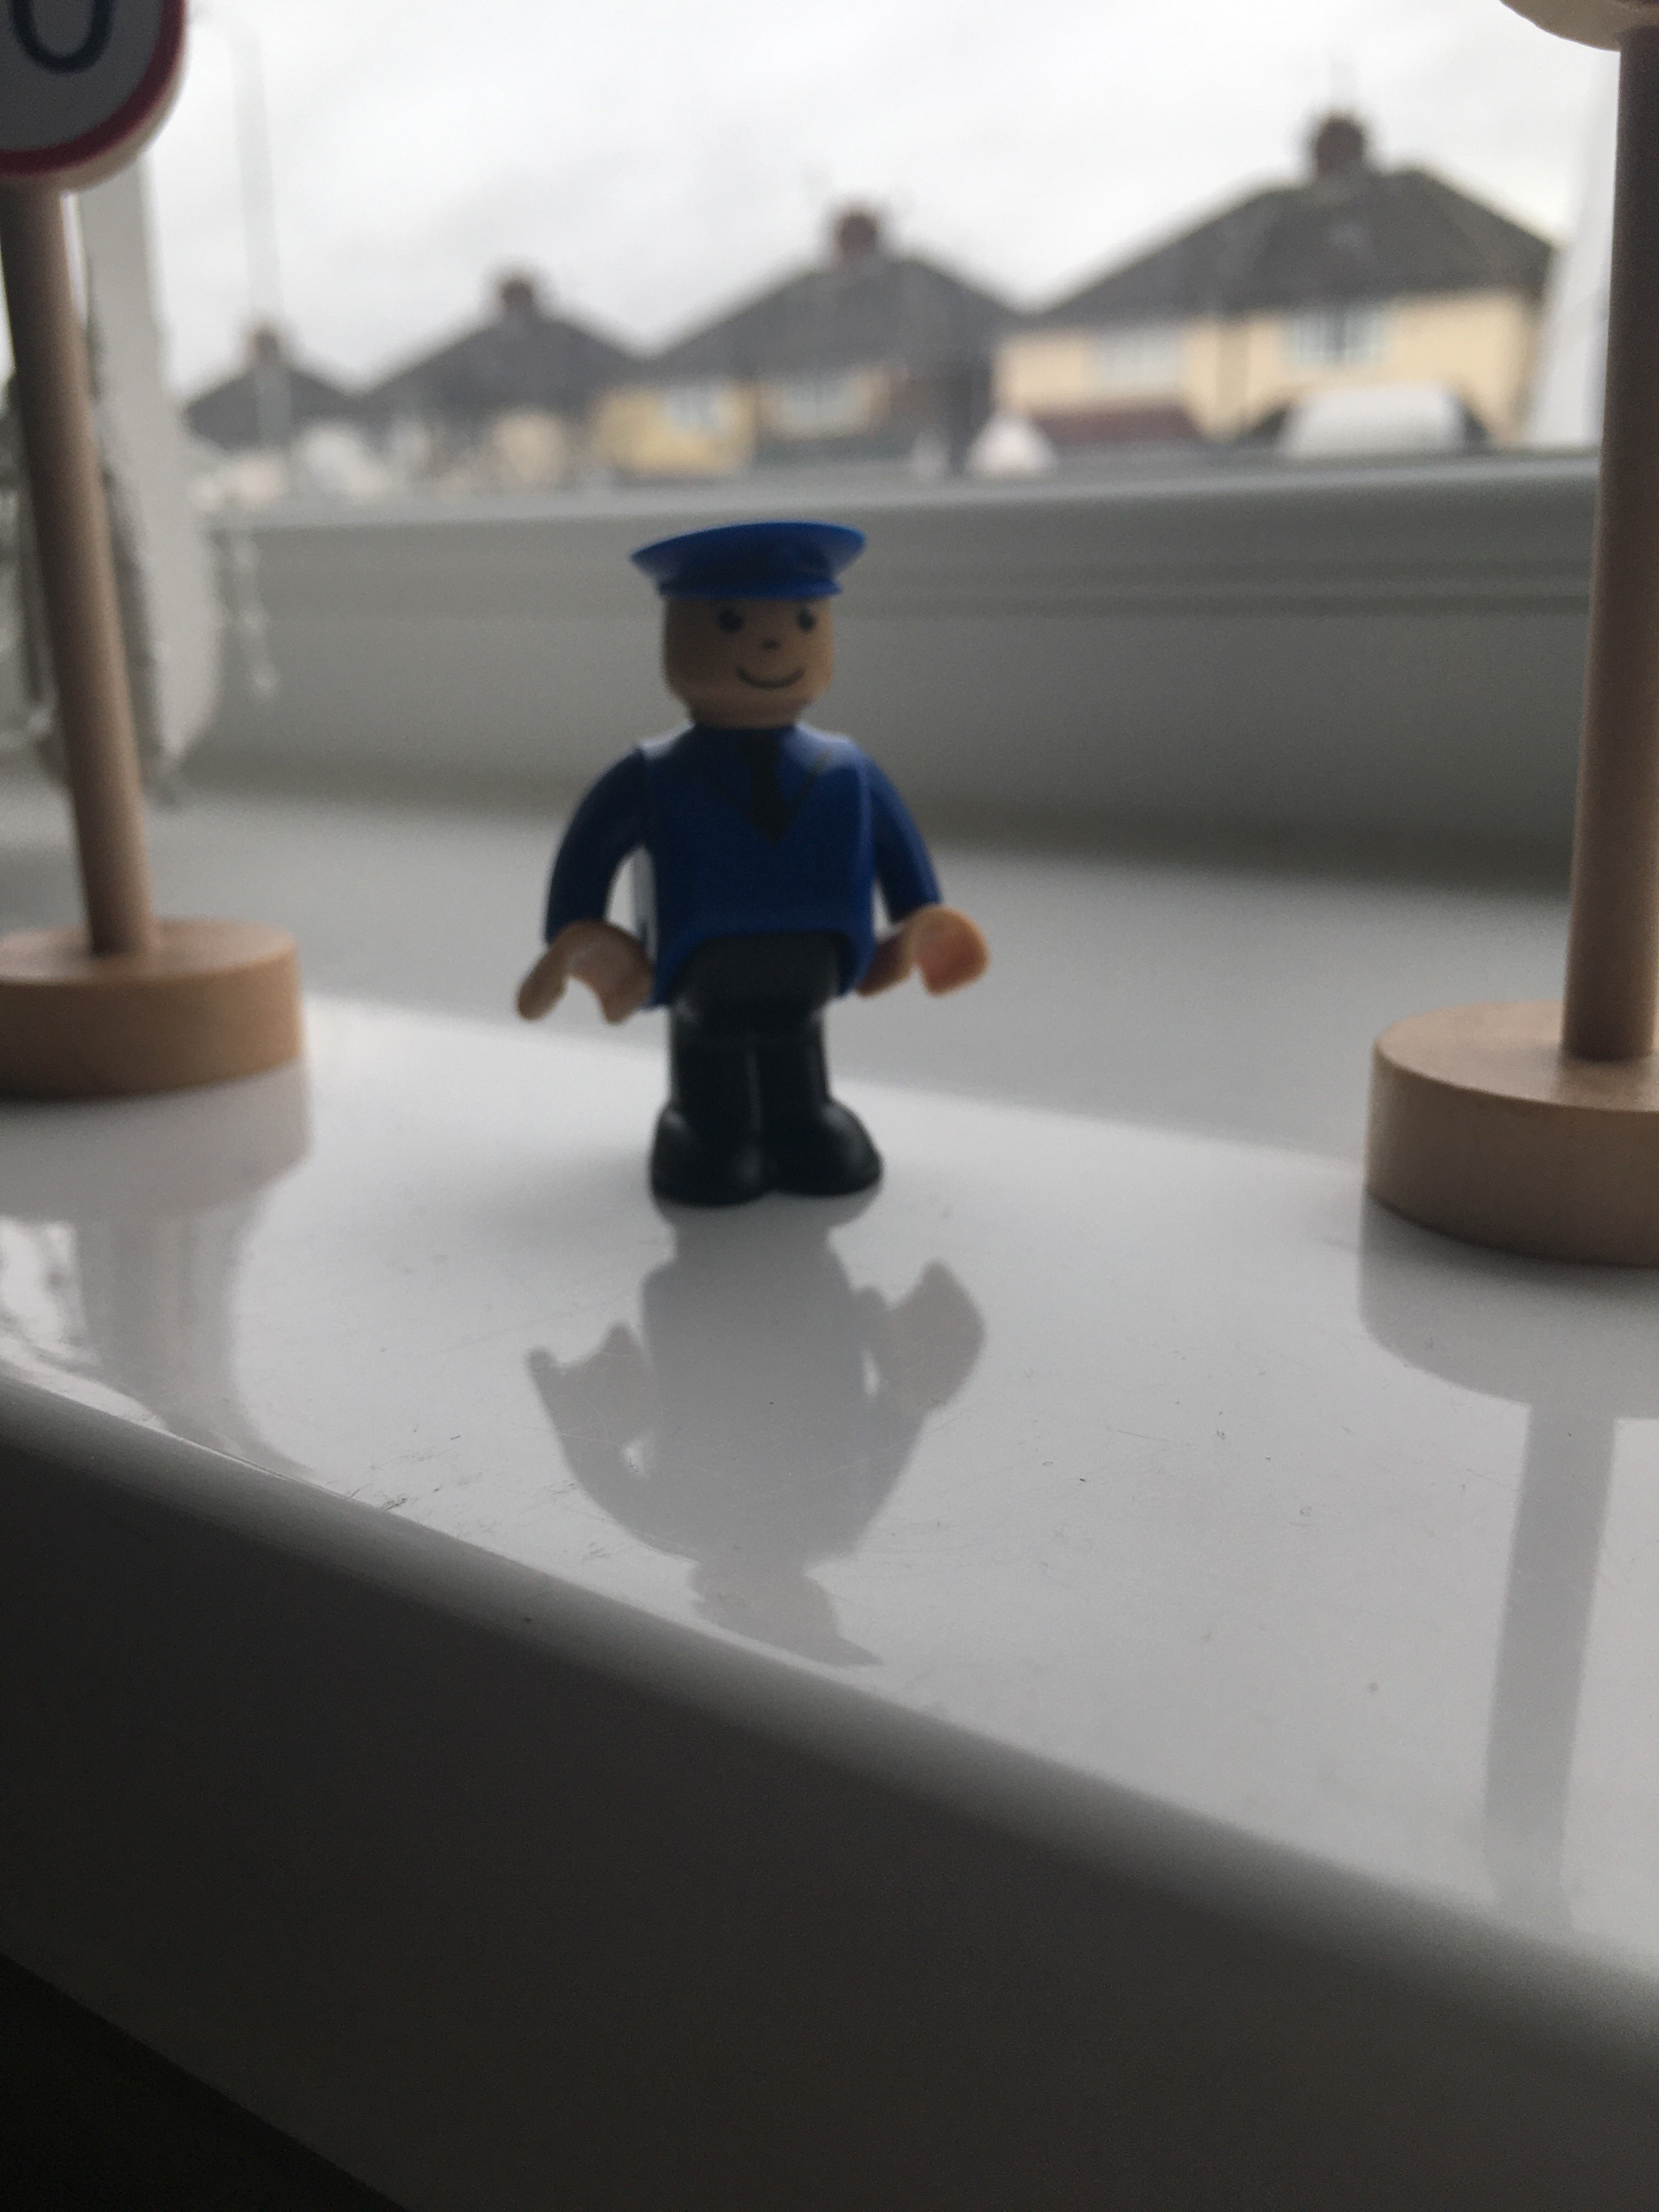person: (501, 511, 1012, 1234)
